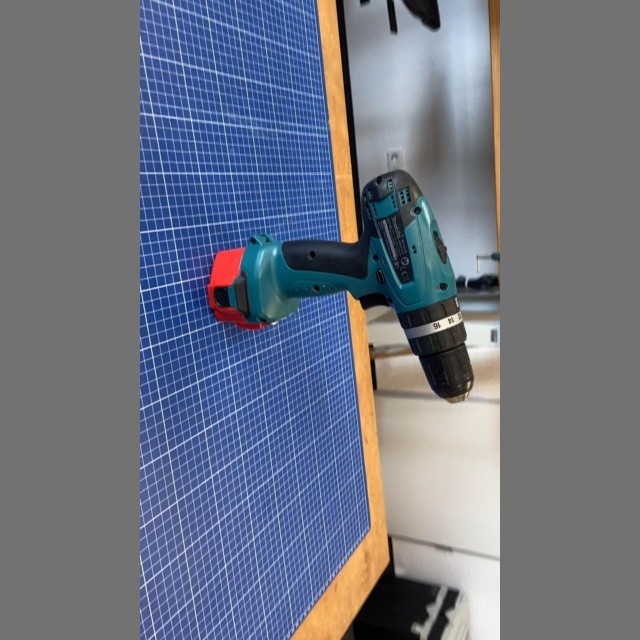drill: (201, 165, 481, 410)
